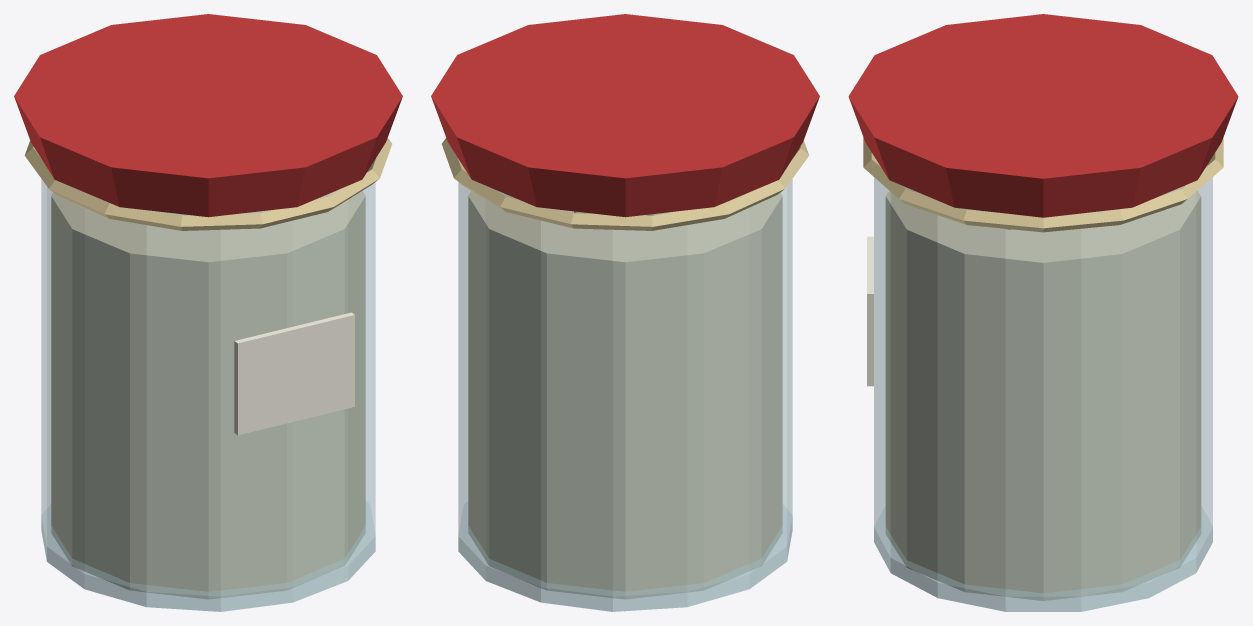
Rendered from sourdough_jar.glb.
The picture shows the model from 3 angles, left to right: view 1: azimuth 30°, elevation 25°; view 2: azimuth 150°, elevation 25°; view 3: azimuth 270°, elevation 25°; orthographic projection.
Parts seen in each view (by area): view 1: glass_jar_glass (×2), dough_dough, lid_lid_cloth, tag_jar_tag, lid_string; view 2: glass_jar_glass (×2), dough_dough, lid_lid_cloth, lid_string; view 3: glass_jar_glass (×2), dough_dough, lid_lid_cloth, lid_string, tag_jar_tag.
Part boxes in pixels (x1,y1,x2,y2): glass_jar_glass (×2): (41, 179, 375, 611); dough_dough: (51, 189, 365, 598); lid_lid_cloth: (14, 14, 402, 217); tag_jar_tag: (234, 312, 354, 435); lid_string: (24, 138, 392, 230); glass_jar_glass (×2): (458, 179, 792, 611); dough_dough: (468, 189, 782, 598); lid_lid_cloth: (431, 14, 819, 217); lid_string: (441, 138, 809, 230); glass_jar_glass (×2): (874, 166, 1212, 611); dough_dough: (885, 186, 1201, 600); lid_lid_cloth: (848, 14, 1238, 217); lid_string: (863, 137, 1223, 232); tag_jar_tag: (867, 236, 873, 386).
Size of the model in its own units: 0.23 by 0.29 by 0.23.
